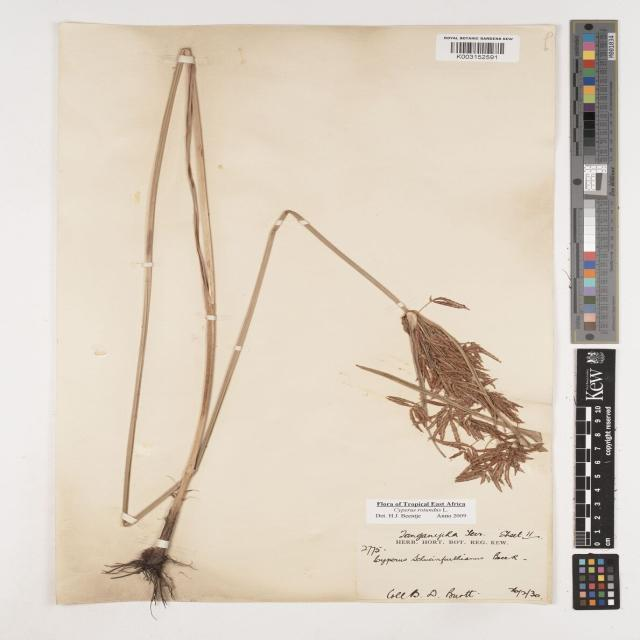cyperus: (354, 292, 552, 493)
